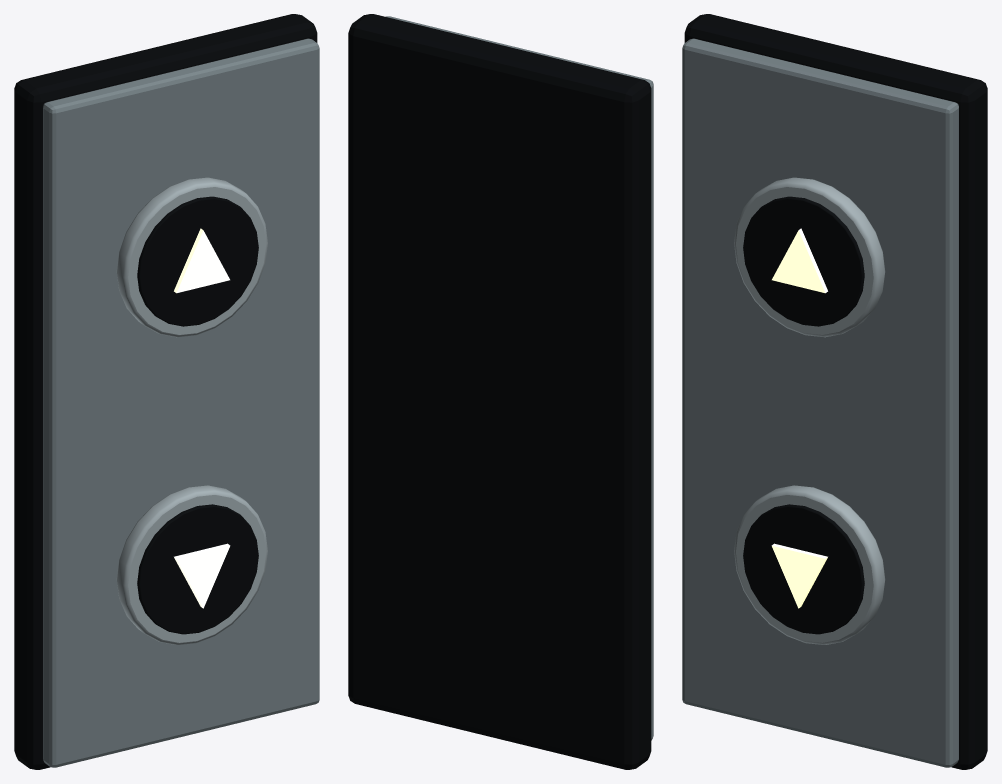
File: OAA_Lift_CallButton.fbx
3 views of the same model, side by side, from view 1: azimuth 30°, elevation 25°; view 2: azimuth 150°, elevation 25°; view 3: azimuth 330°, elevation 25° (orthographic).
Parts seen in each view (by area): view 1: Body; view 2: Body; view 3: Body.
Boxes of the visible parts, box(x1,y1,x2,y2) form: Body: box(14, 14, 319, 769); Body: box(348, 14, 653, 769); Body: box(682, 14, 987, 769).
Size of the model in its own units: 0.12 by 0.27 by 0.035.
